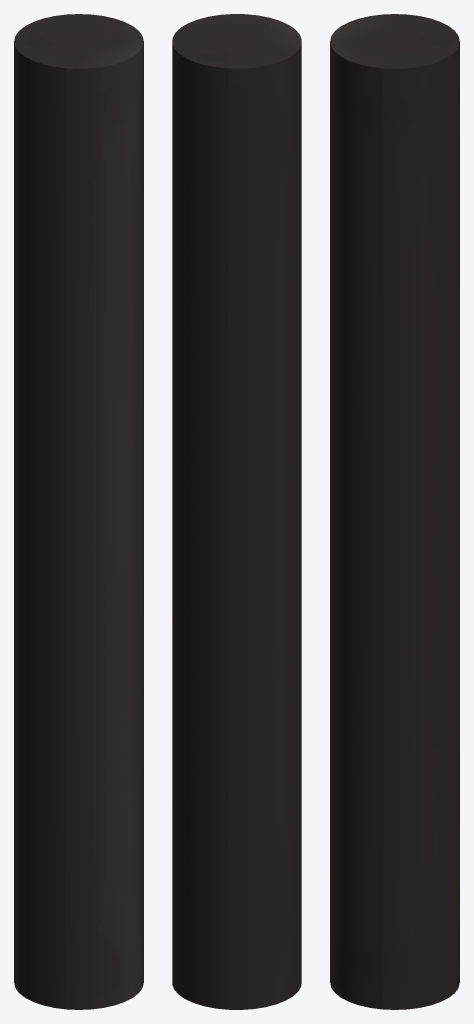
Rendered from base__front_handle_grip.glb.
3 views of the same model, side by side, from view 1: azimuth 90°, elevation 25°; view 2: azimuth 150°, elevation 25°; view 3: azimuth 270°, elevation 25° (orthographic).
Visible parts, largest first — view 1: world; view 2: world; view 3: world.
Boxes of the visible parts, box(x1,y1,x2,y2) form: world: box(14, 14, 143, 1009); world: box(172, 14, 301, 1009); world: box(330, 14, 459, 1009).
Bounding box in the file's own units: 0.03 × 0.24 × 0.03.
1 material, 1 textured.
